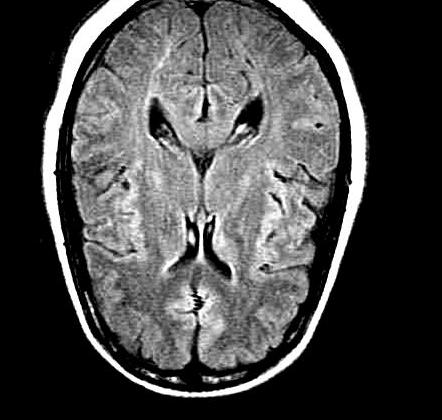Normal_Brain: (1, 1, 442, 420)
